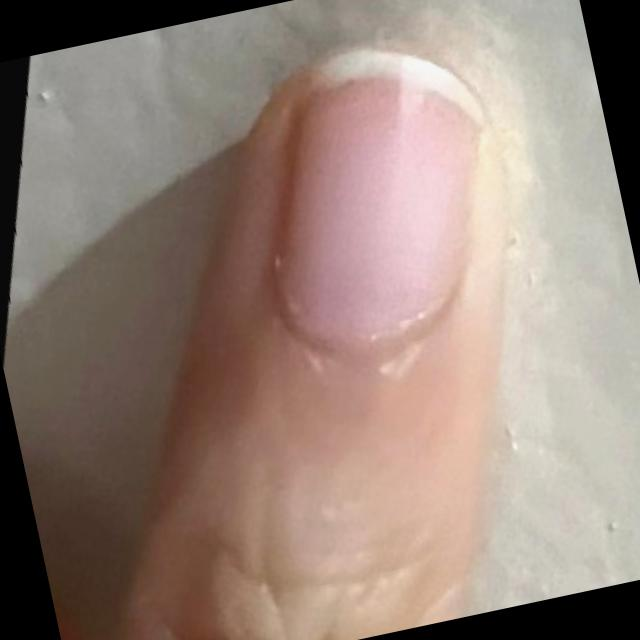Nail: (279, 42, 483, 347)
